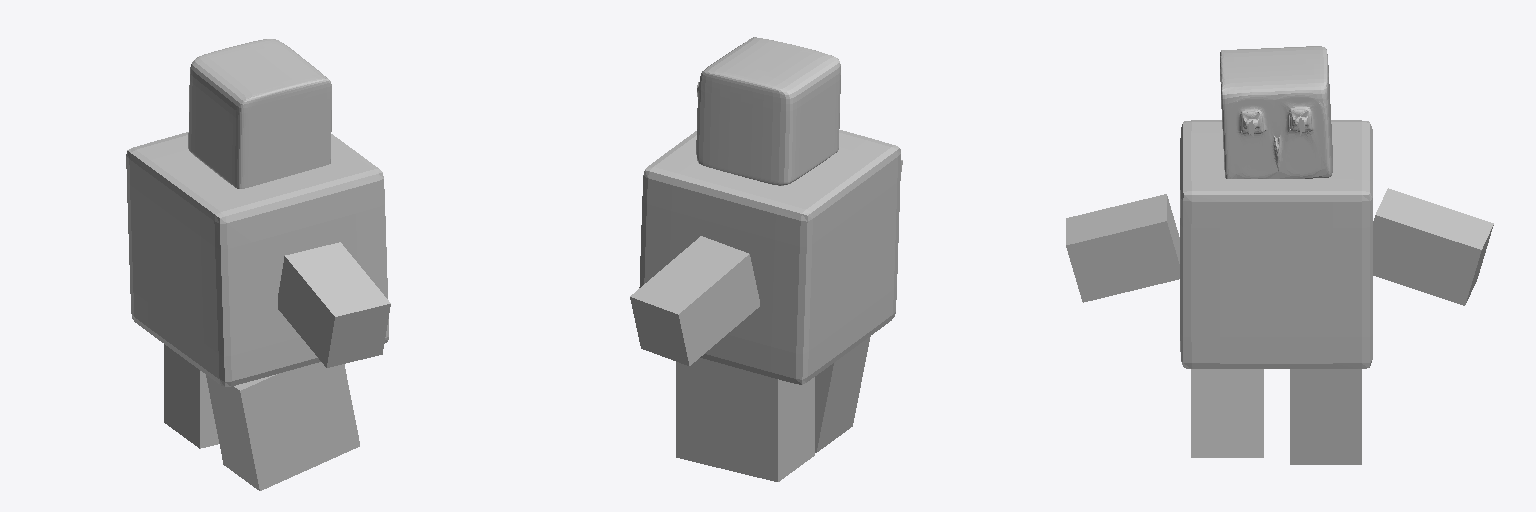
3 views of the same model, side by side, from view 1: azimuth 30°, elevation 25°; view 2: azimuth 150°, elevation 25°; view 3: azimuth 270°, elevation 25° (orthographic).
Parts seen in each view (by area): view 1: Cube_Cube.001, Cube.001_Cube.002, Cube.002_Cube.003, Cube.005_Cube.007, Cube.003_Cube.004; view 2: Cube_Cube.001, Cube.001_Cube.002, Cube.003_Cube.004, Cube.004_Cube.005, Cube.002_Cube.003; view 3: Cube_Cube.001, Cube.001_Cube.002, Cube.004_Cube.005, Cube.005_Cube.007, Cube.003_Cube.004, Cube.002_Cube.003.
Part boxes in pixels (x1,y1,x2,y2): Cube_Cube.001: (126,132,388,386); Cube.001_Cube.002: (188,39,331,188); Cube.002_Cube.003: (206,362,359,490); Cube.005_Cube.007: (278,242,390,367); Cube.003_Cube.004: (164,344,218,448); Cube_Cube.001: (639,130,900,384); Cube.001_Cube.002: (696,37,840,185); Cube.003_Cube.004: (676,358,814,481); Cube.004_Cube.005: (630,236,759,365); Cube.002_Cube.003: (815,336,870,452); Cube_Cube.001: (1180,120,1372,368); Cube.001_Cube.002: (1220,46,1332,178); Cube.004_Cube.005: (1373,188,1493,305); Cube.005_Cube.007: (1066,194,1179,302); Cube.003_Cube.004: (1290,369,1361,464); Cube.002_Cube.003: (1191,369,1263,457).
Bounding box in the file's own units: 1.5 × 3.21 × 3.23.